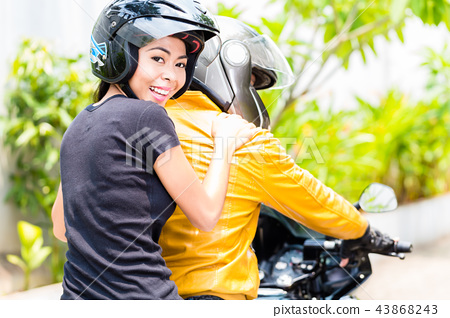helmet: (192, 16, 292, 131), (88, 1, 204, 83)
